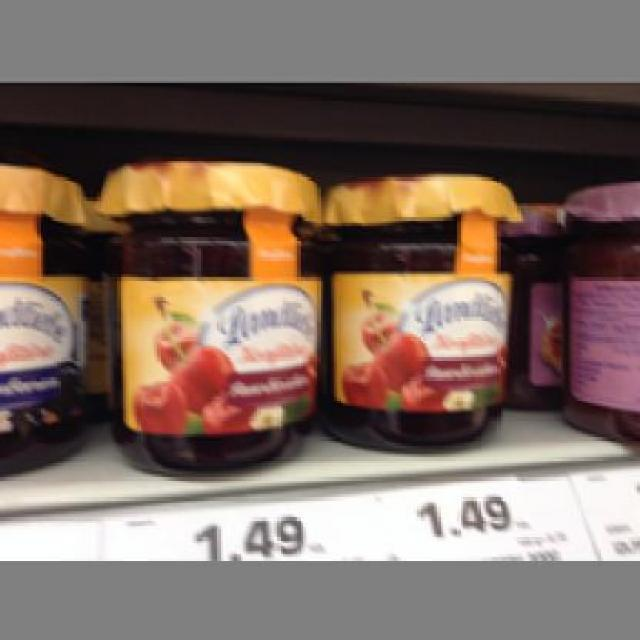Jam: (97, 157, 323, 474), (323, 168, 517, 448), (0, 160, 83, 477), (552, 180, 638, 440)
